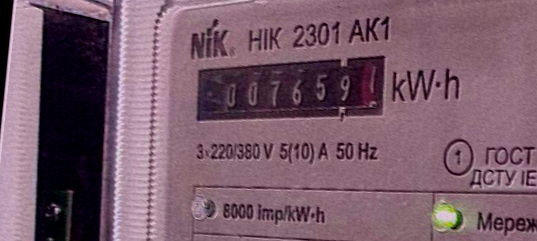0: (224, 80, 240, 109), (245, 80, 261, 108)
1: (365, 65, 380, 97)
5: (312, 72, 330, 105)
6: (289, 76, 305, 108)
7: (266, 76, 283, 109)
9: (336, 71, 354, 106)
screen: (179, 31, 408, 147)
